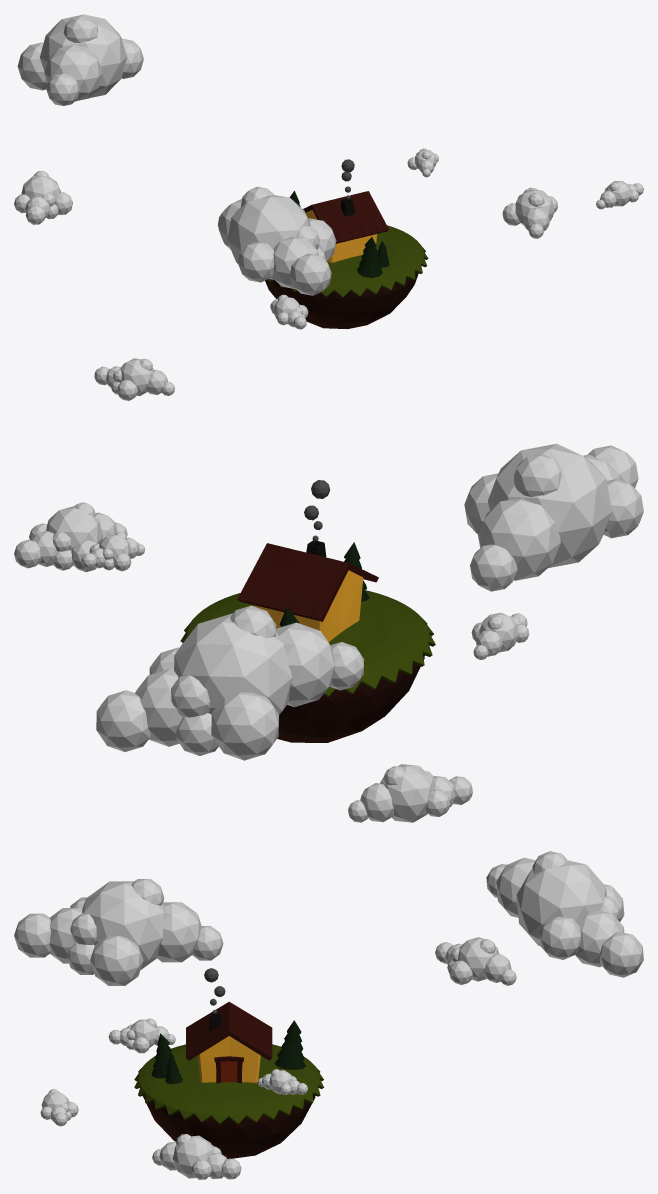
Rendered from House.obj.
3 views of the same model, one above another, from view 1: azimuth 30°, elevation 25°; view 2: azimuth 150°, elevation 25°; view 3: azimuth 270°, elevation 25° (orthographic). The views are drawn at different scales.
Visible parts, largest first — view 1: Icosphere.001, Icosphere.007_Icosphere.002, Icosphere, Sphere_Sphere.001, casa_Cube.001, Icosphere.002_Icosphere.001, Icosphere.005_Icosphere.001, Icosphere.004_Icosphere.001, Icosphere.006_Icosphere.001, Cone, Icosphere.003_Icosphere.001; view 2: Icosphere.007_Icosphere.002, Icosphere.001, casa_Cube.001, Sphere_Sphere.001, Icosphere, Icosphere.002_Icosphere.001, Icosphere.005_Icosphere.001, Icosphere.006_Icosphere.001, Icosphere.004_Icosphere.001, Icosphere.003_Icosphere.001; view 3: Icosphere.001, Icosphere.007_Icosphere.002, Sphere_Sphere.001, casa_Cube.001, Icosphere, Icosphere.002_Icosphere.001, Icosphere.005_Icosphere.001, Icosphere.004_Icosphere.001, Cone.002_Cone, Icosphere.006_Icosphere.001, Icosphere.003_Icosphere.001, Cone.
Part boxes in pixels (x1,y1,x2,y2): Icosphere.001: (217, 186, 336, 295); Icosphere.007_Icosphere.002: (17, 14, 143, 105); Icosphere: (265, 272, 418, 329); Sphere_Sphere.001: (268, 225, 428, 297); casa_Cube.001: (303, 191, 388, 262); Icosphere.002_Icosphere.001: (14, 170, 72, 224); Icosphere.005_Icosphere.001: (502, 187, 557, 238); Icosphere.004_Icosphere.001: (270, 294, 308, 329); Icosphere.006_Icosphere.001: (596, 181, 643, 209); Cone: (357, 237, 382, 277); Icosphere.003_Icosphere.001: (407, 148, 438, 177); Icosphere.007_Icosphere.002: (96, 605, 364, 760); Icosphere.001: (464, 443, 643, 591); casa_Cube.001: (237, 543, 378, 642); Sphere_Sphere.001: (180, 590, 435, 696); Icosphere: (277, 655, 424, 742); Icosphere.002_Icosphere.001: (348, 764, 472, 822); Icosphere.005_Icosphere.001: (14, 502, 127, 572); Icosphere.006_Icosphere.001: (94, 358, 174, 400); Icosphere.004_Icosphere.001: (471, 612, 529, 659); Icosphere.003_Icosphere.001: (81, 532, 144, 571); Icosphere.001: (14, 879, 223, 985); Icosphere.007_Icosphere.002: (486, 851, 643, 977); Sphere_Sphere.001: (134, 1044, 323, 1124); casa_Cube.001: (186, 1001, 272, 1083); Icosphere: (143, 1095, 315, 1158); Icosphere.002_Icosphere.001: (435, 937, 516, 985); Icosphere.005_Icosphere.001: (152, 1134, 241, 1179); Icosphere.004_Icosphere.001: (108, 1018, 175, 1053); Cone.002_Cone: (274, 1020, 305, 1069); Icosphere.006_Icosphere.001: (40, 1089, 78, 1126); Icosphere.003_Icosphere.001: (257, 1069, 307, 1094); Cone: (151, 1033, 179, 1078).
Size of the model in its own units: 19.39 by 9.4 by 22.36.
